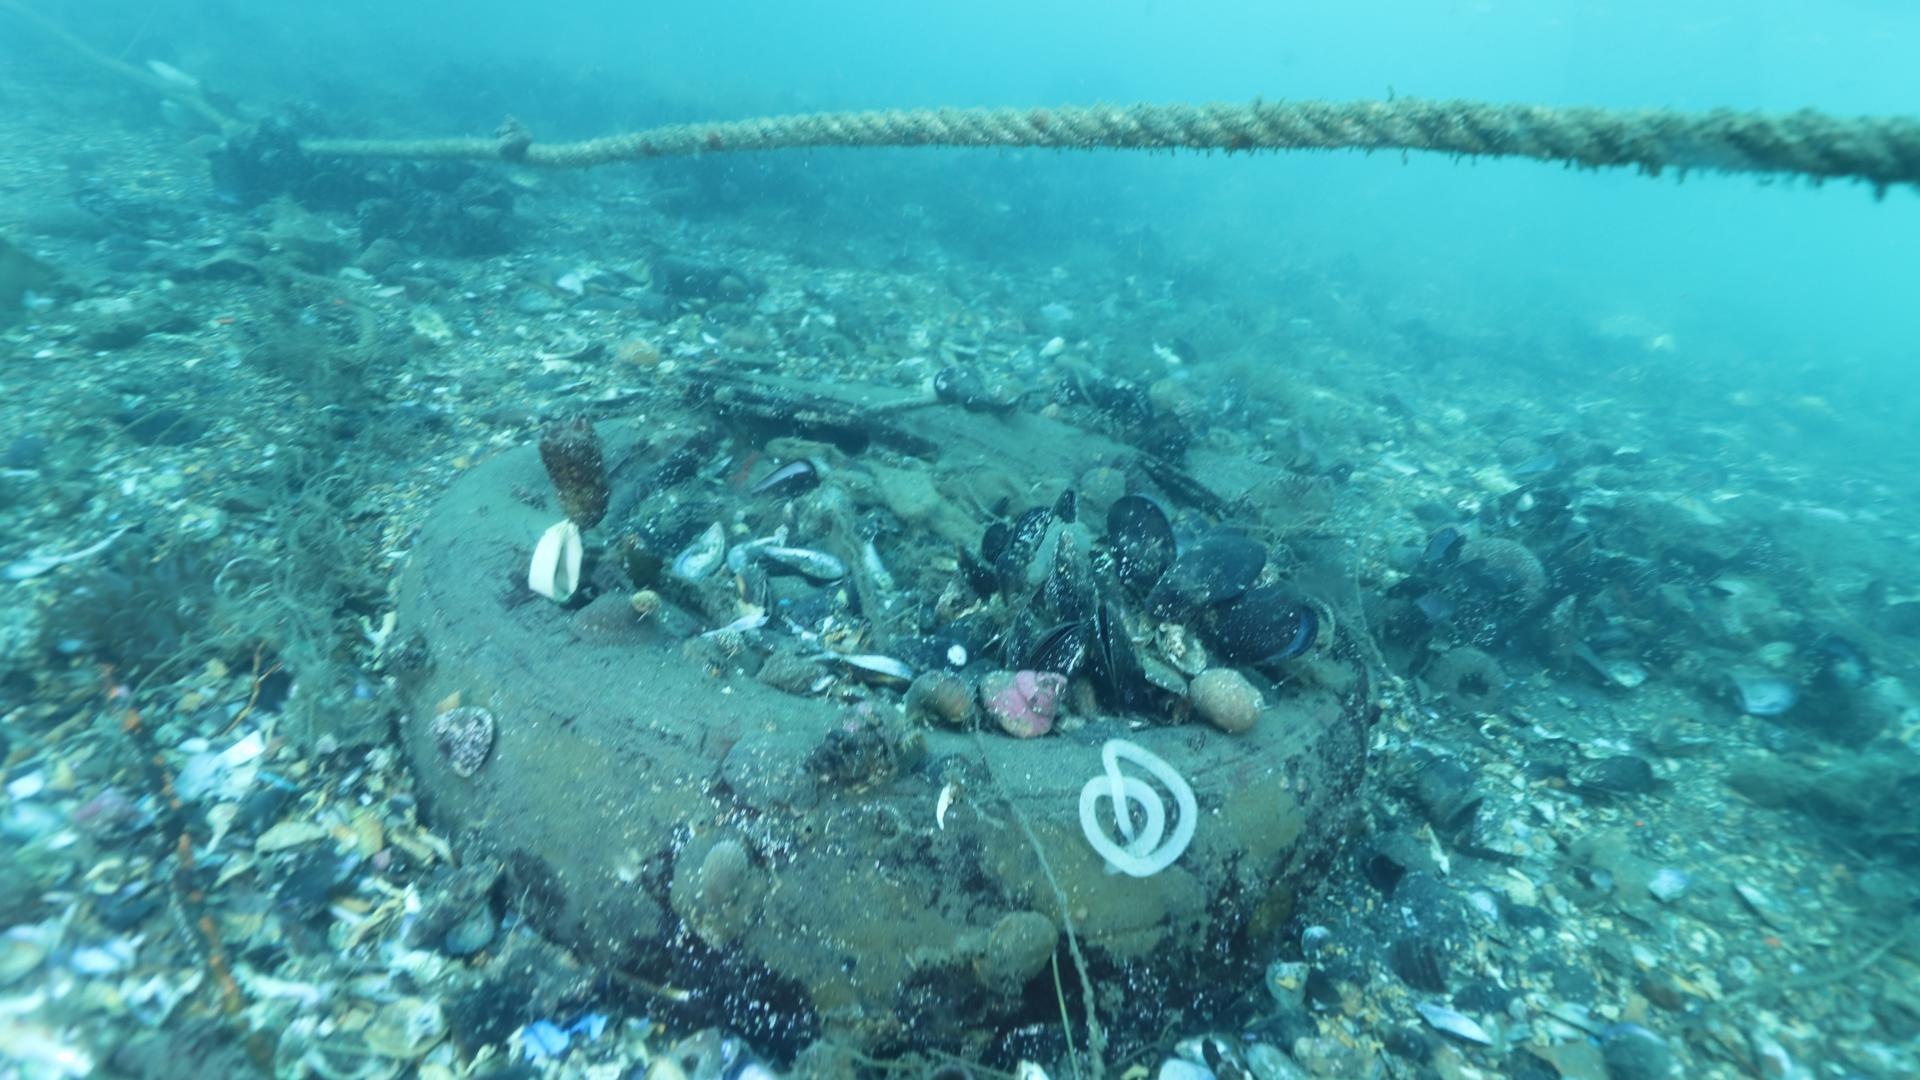rope: (0, 0, 1920, 185)
tire: (384, 394, 1367, 1055)
